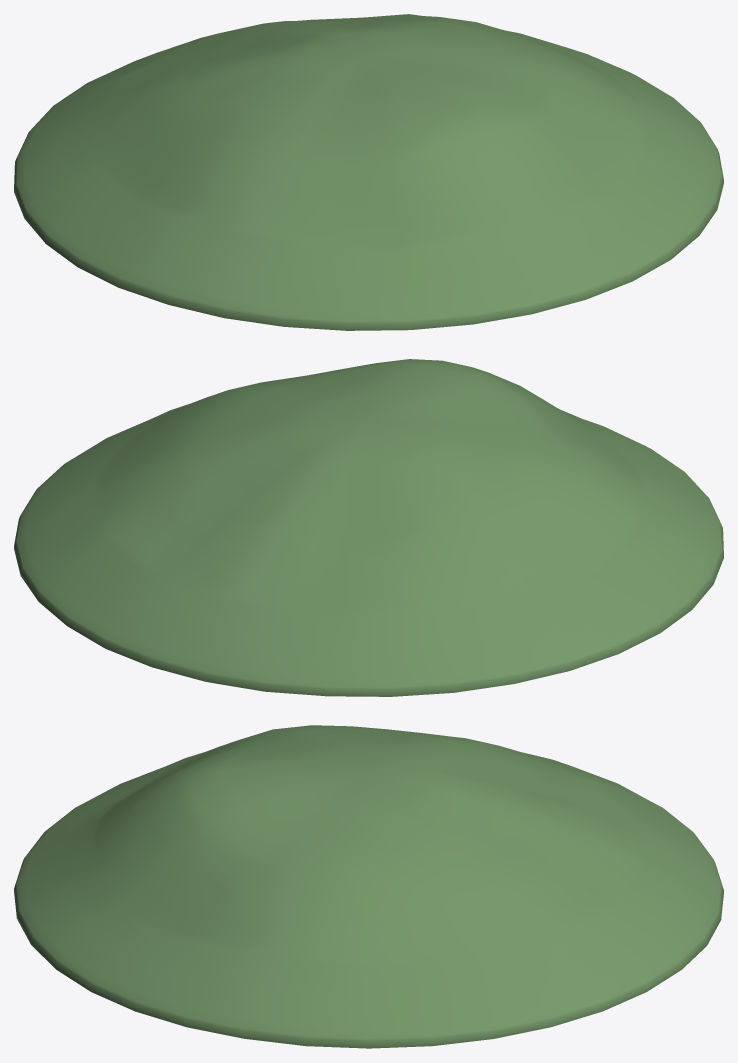
The model's file is FeudHill.fbx.
3 views of the same model, one above another, from view 1: azimuth 30°, elevation 25°; view 2: azimuth 150°, elevation 25°; view 3: azimuth 270°, elevation 25° (orthographic).
Parts seen in each view (by area): view 1: pCylinder18; view 2: pCylinder18; view 3: pCylinder18.
Boxes of the visible parts, x1=… form: pCylinder18: x1=14, y1=14, x2=723, y2=330; pCylinder18: x1=14, y1=359, x2=723, y2=696; pCylinder18: x1=14, y1=725, x2=723, y2=1048.
Bounding box in the file's own units: 9.98 × 1.98 × 9.99.
